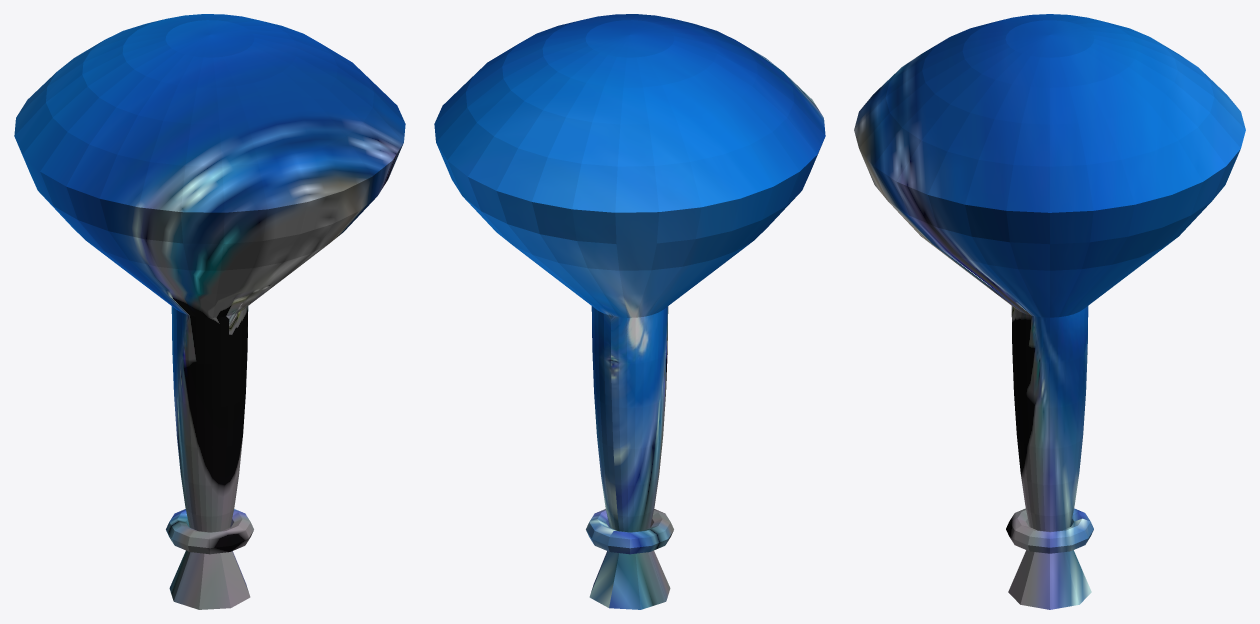
The model's file is bloon_blue.glb.
3 renders of one model, left to right at view 1: azimuth 30°, elevation 25°; view 2: azimuth 150°, elevation 25°; view 3: azimuth 270°, elevation 25°, orthographic.
Parts seen in each view (by area): view 1: bloon_blue; view 2: bloon_blue; view 3: bloon_blue.
Boxes of the visible parts, x1,y1,x2,y2 form: bloon_blue: [14, 14, 405, 609]; bloon_blue: [434, 14, 825, 609]; bloon_blue: [854, 14, 1245, 609].
Size of the model in its own units: 0.7965 by 1.25 by 0.7965.
1 material, 1 textured.
